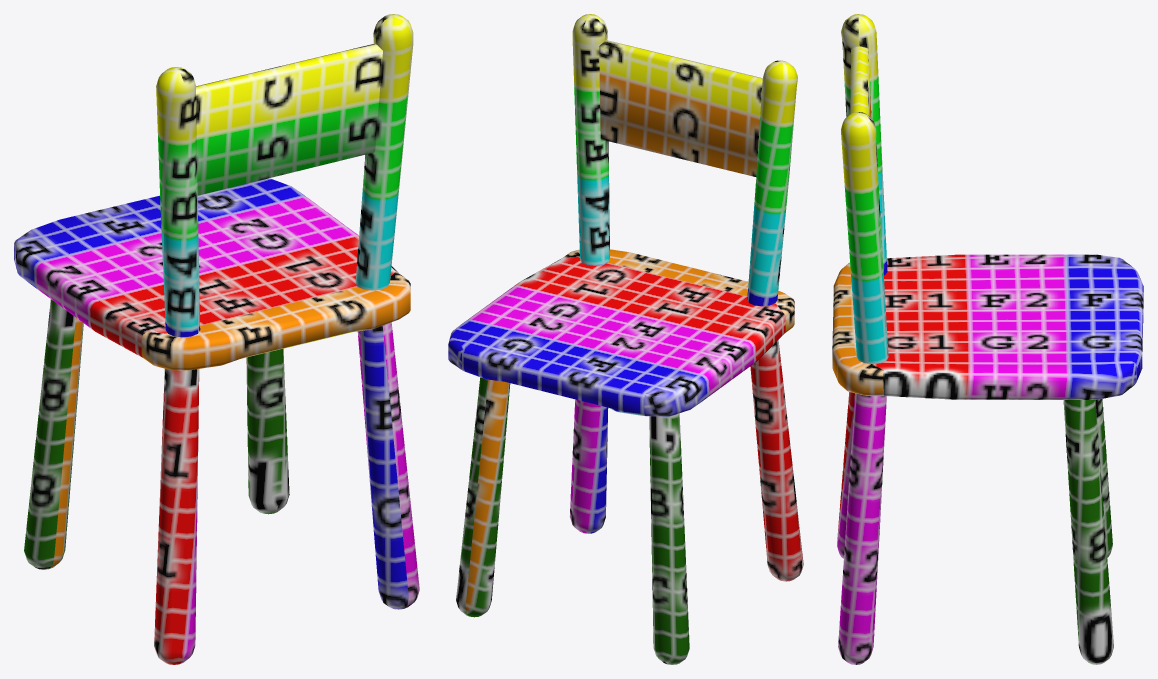
The model's file is Chair Unwrap.fbx.
3 views of the same model, side by side, from view 1: azimuth 30°, elevation 25°; view 2: azimuth 150°, elevation 25°; view 3: azimuth 270°, elevation 25° (orthographic). The views are drawn at different scales.
Parts seen in each view (by area): view 1: Chair; view 2: Chair; view 3: Chair.
Boxes of the visible parts, x1,y1,x2,y2 form: Chair: (14,14,419,664); Chair: (448,14,803,664); Chair: (832,14,1143,664).
Size of the model in its own units: 45.33 by 47.88 by 92.88.
1 material, 1 textured.
